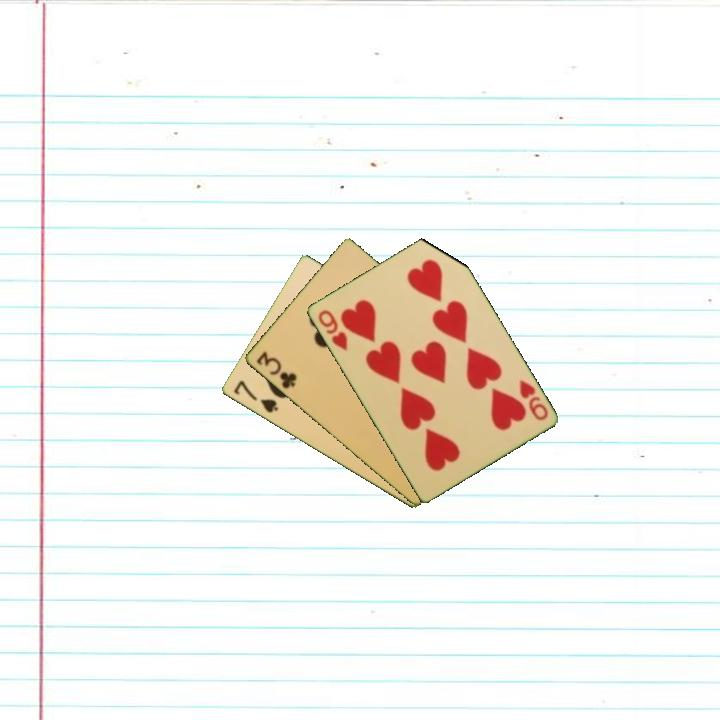3c: (252, 348, 300, 392)
7s: (230, 377, 281, 416)
9h: (314, 306, 350, 353), (515, 376, 551, 423)
